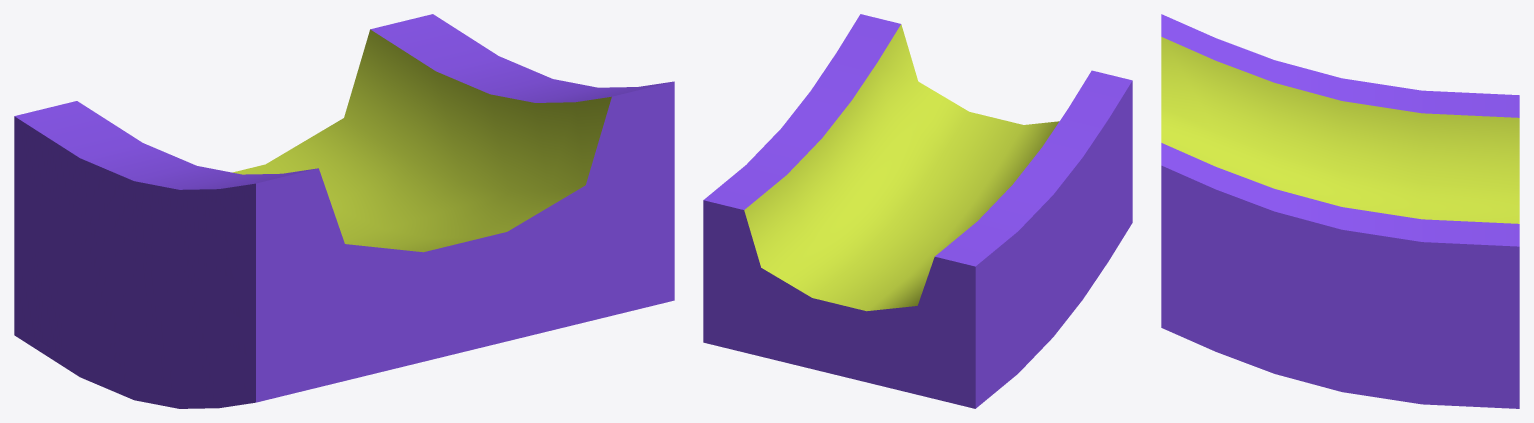
The model's file is rampStart_B.fbx.
3 renders of one model, left to right at view 1: azimuth 30°, elevation 25°; view 2: azimuth 150°, elevation 25°; view 3: azimuth 270°, elevation 25°, orthographic. The views are drawn at different scales.
Visible parts, largest first — view 1: rampStart_B; view 2: rampStart_B; view 3: rampStart_B.
Boxes of the visible parts, x1=… form: rampStart_B: x1=14, y1=14, x2=674, y2=408; rampStart_B: x1=703, y1=14, x2=1132, y2=408; rampStart_B: x1=1161, y1=14, x2=1519, y2=408.
Size of the model in its own units: 10 by 7.5 by 10.
